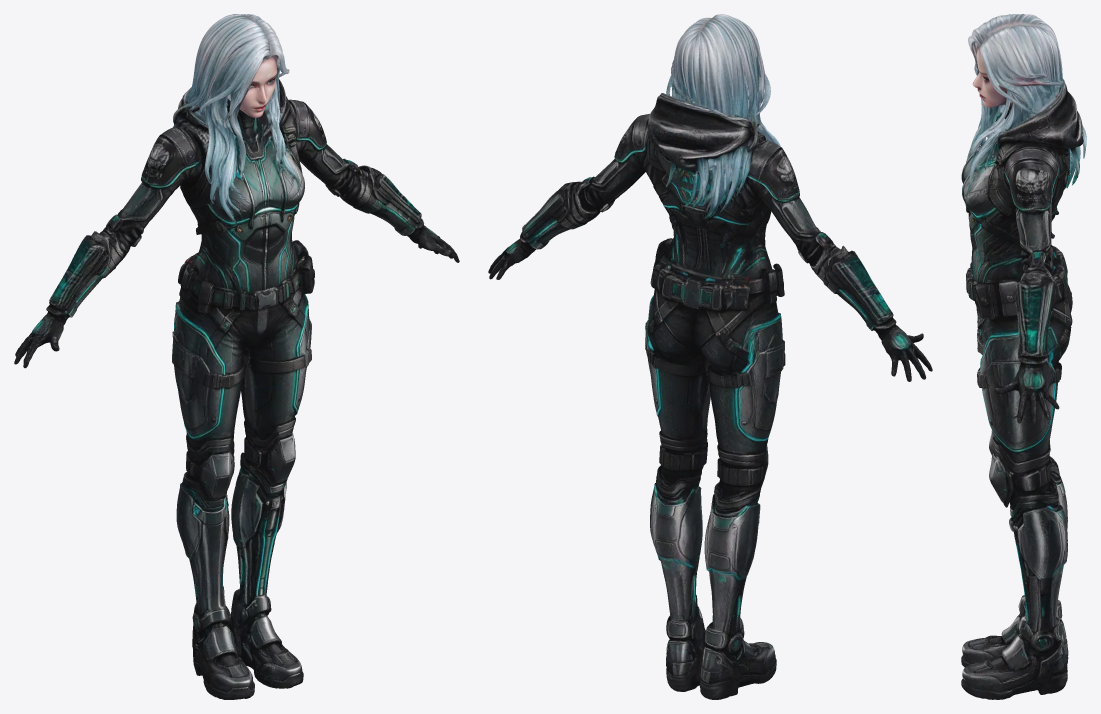
Rendered from gaykamodel.glb.
The picture shows the model from 3 angles, left to right: view 1: azimuth 30°, elevation 25°; view 2: azimuth 150°, elevation 25°; view 3: azimuth 270°, elevation 25°; orthographic projection.
Visible parts, largest first — view 1: mesh_node; view 2: mesh_node; view 3: mesh_node.
Boxes of the visible parts, <box> form: mesh_node: <box>14,14,459,699</box>; mesh_node: <box>488,14,932,699</box>; mesh_node: <box>961,14,1086,699</box>.
Size of the model in its own units: 1.32 by 1.9 by 0.3257.
1 material, 1 textured.
